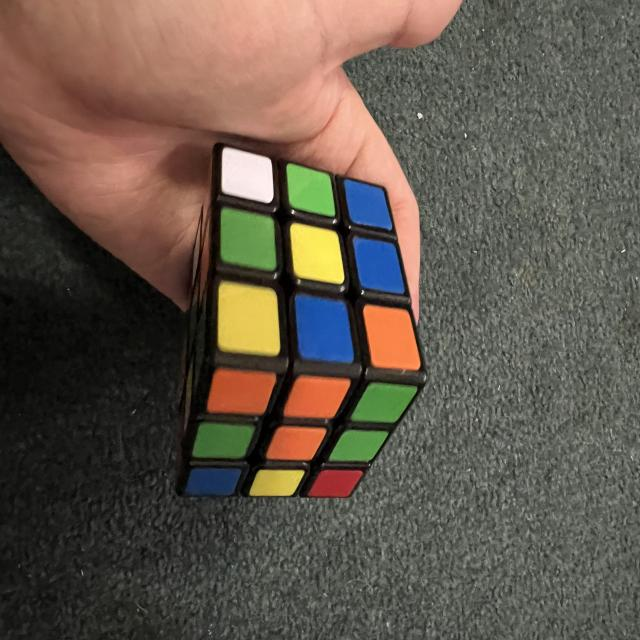blue: (294, 290, 355, 366), (351, 230, 405, 301), (342, 172, 393, 237), (184, 467, 241, 496)
center: (290, 222, 344, 285), (266, 425, 326, 463)
green: (214, 207, 283, 272), (276, 162, 345, 220), (350, 380, 418, 427), (192, 422, 255, 460), (329, 429, 388, 463)
orange: (359, 296, 422, 379), (207, 368, 277, 417), (283, 374, 350, 422), (266, 425, 326, 463)
red: (307, 469, 363, 497)
white: (217, 147, 279, 204)
yellow: (216, 280, 282, 357), (288, 222, 346, 285), (249, 470, 304, 496)
